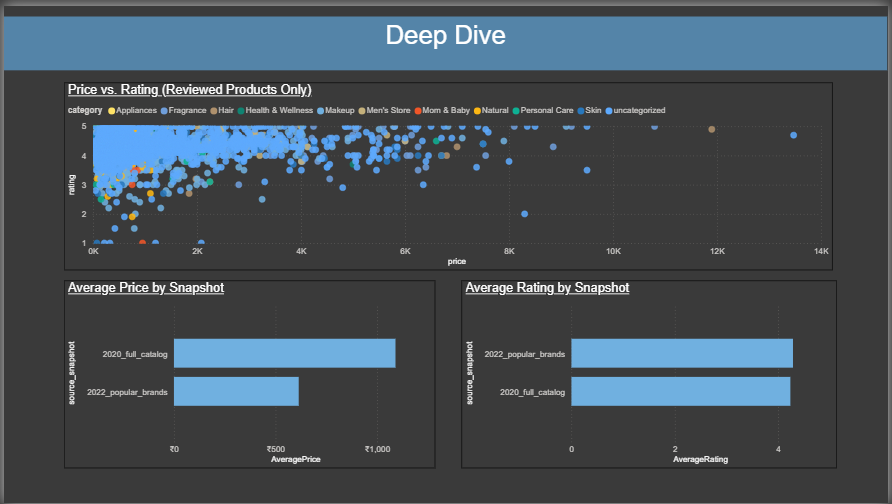

Layout of this report page (visuals, bound fields, positions):
{"tool":"powerbi","page":{"name":"Page 2","canvas":[1280,720],"ordinal":1},"visuals":[{"type":"scatterChart","title":"Price vs. Rating (Reviewed Products Only)","fields":{"X":["nykaa_products products.price"],"Series":["nykaa_products products.category"],"Y":["nykaa_products products.rating"]},"box":[88,110,1114,272],"z":0},{"type":"clusteredBarChart","title":"Average Price by Snapshot","fields":{"Y":["nykaa_products products.AveragePrice"],"Category":["nykaa_products products.source_snapshot"]},"box":[88,398,538,272],"z":1},{"type":"clusteredBarChart","title":"Average Rating by Snapshot","fields":{"Category":["nykaa_products products.source_snapshot"],"Y":["nykaa_products products.AverageRating"]},"box":[664,398,544,272],"z":2},{"type":"textbox","box":[0,16,1280,78],"z":3}]}

Visuals, with their boxes in screenshot pixels (x1, y1, x2, y2), scaled from the page's 1280x720 canvas onto the 892x504 screenshot:
"Price vs. Rating (Reviewed Products Only)" scatterChart: bbox(61, 77, 838, 267)
"Average Price by Snapshot" clusteredBarChart: bbox(61, 279, 436, 469)
"Average Rating by Snapshot" clusteredBarChart: bbox(463, 279, 842, 469)
textbox: bbox(0, 11, 891, 66)
